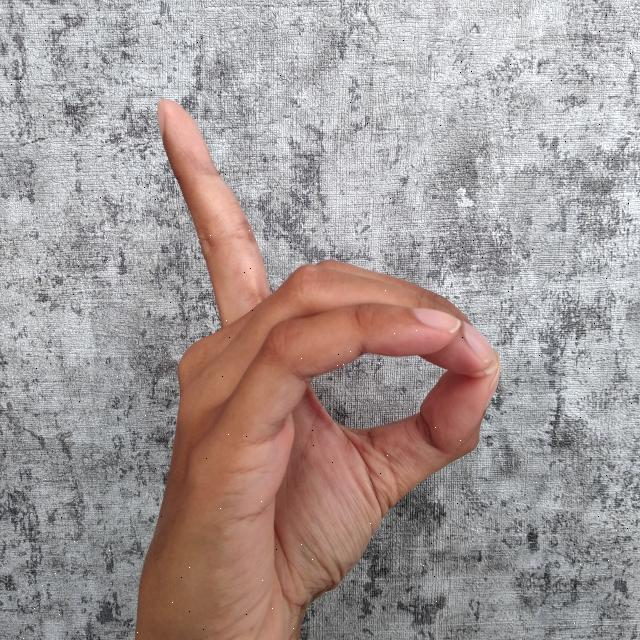D: (131, 101, 500, 640)
